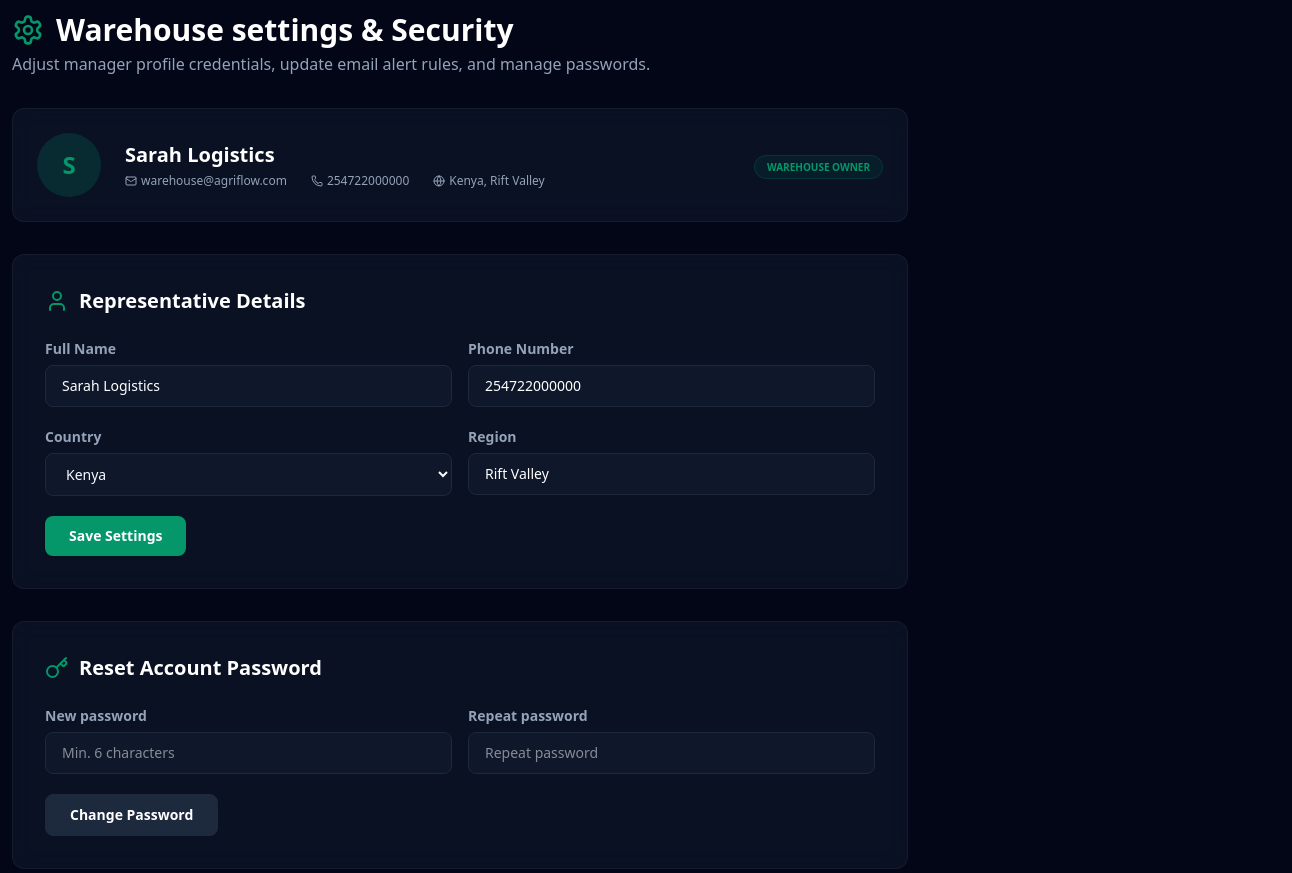
it: WarehouseSettings Page Component › handles profile save success path
The image size is (1292, 873).
Replace the text in the field showing "Sarah Logistics" below "Full Name" with "Sarah Updated": (248, 386) left=45, top=365, right=452, bottom=407
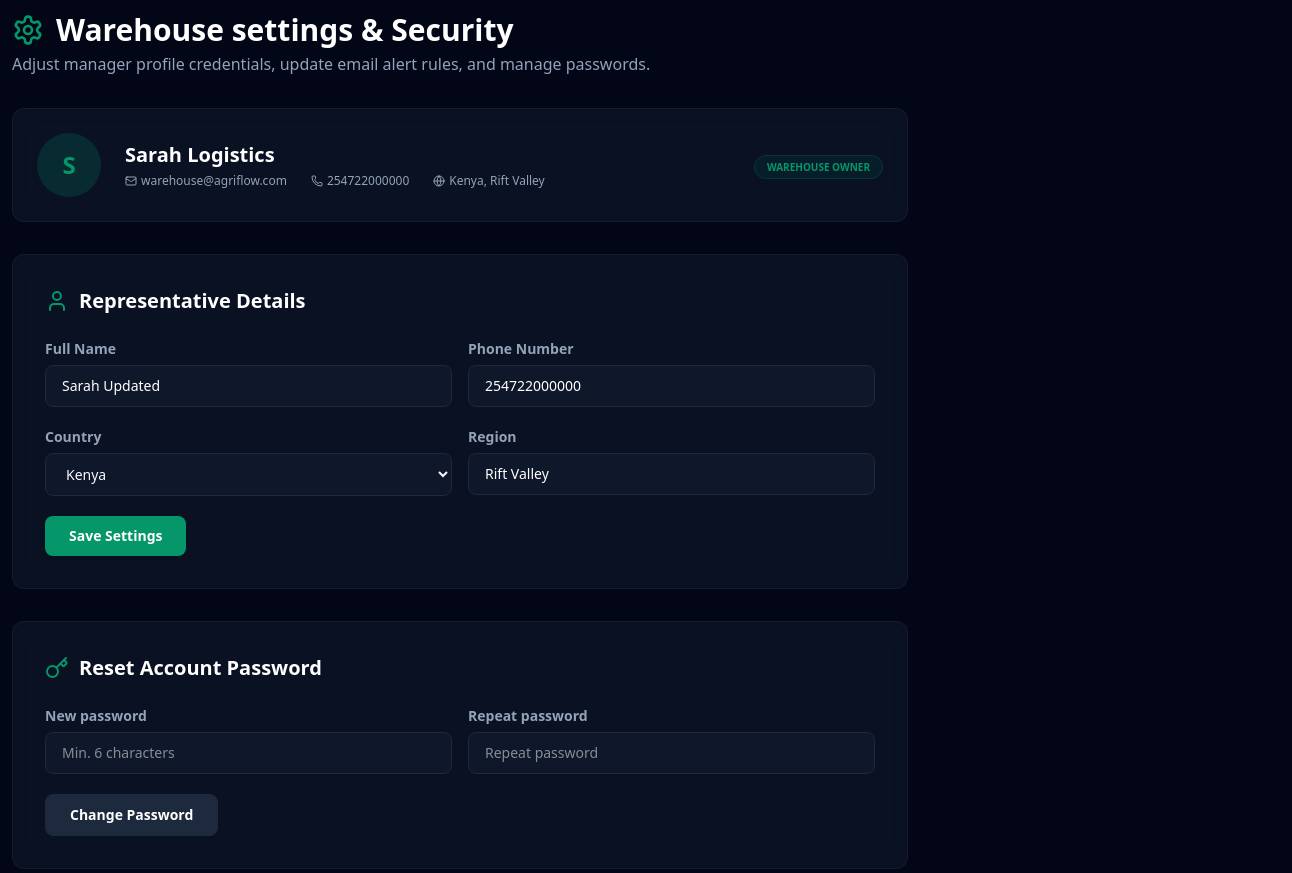
Click the button "Save Settings": (116, 536) left=45, top=516, right=186, bottom=556
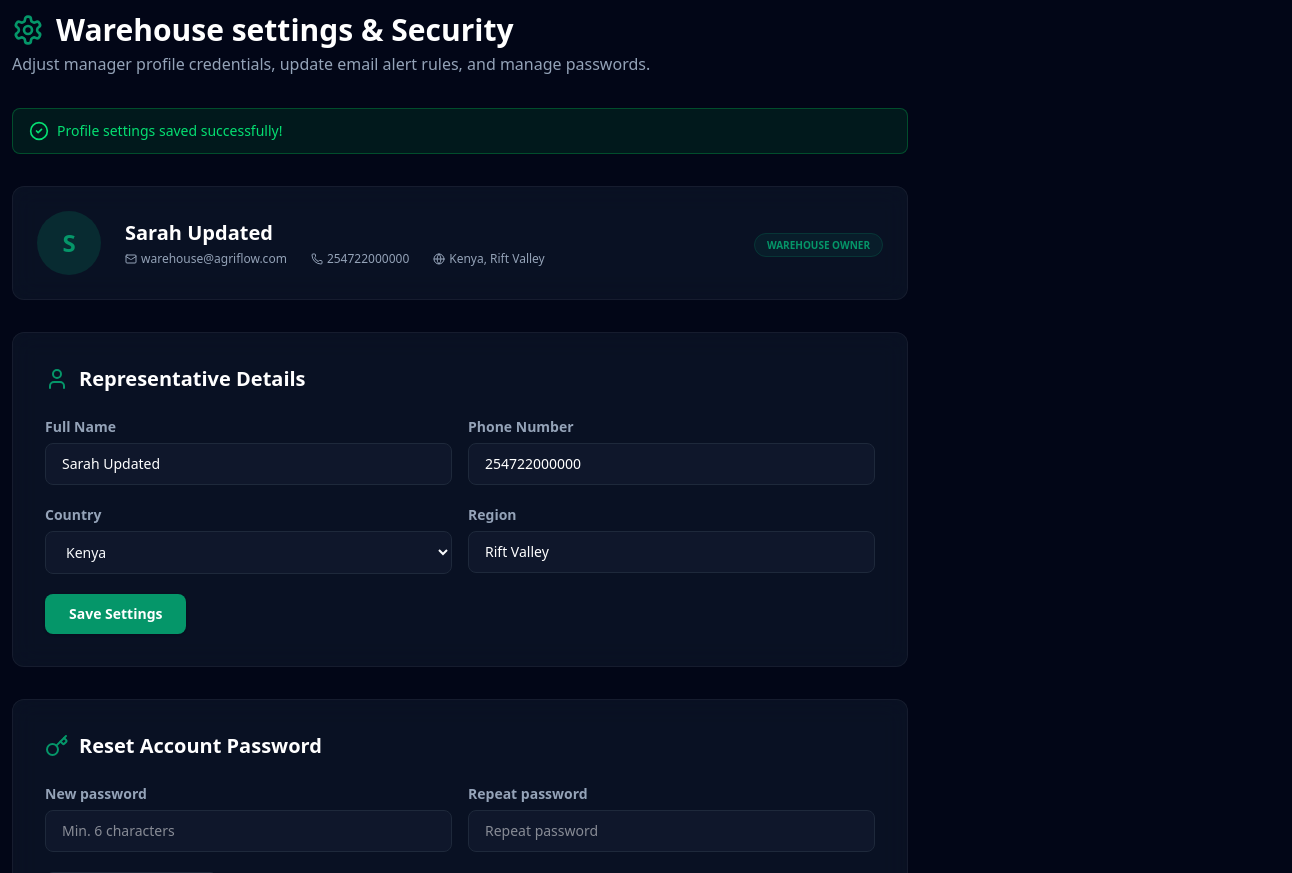
Result: the text "Profile settings saved successfully!" is shown at left=57, top=121, right=282, bottom=141
